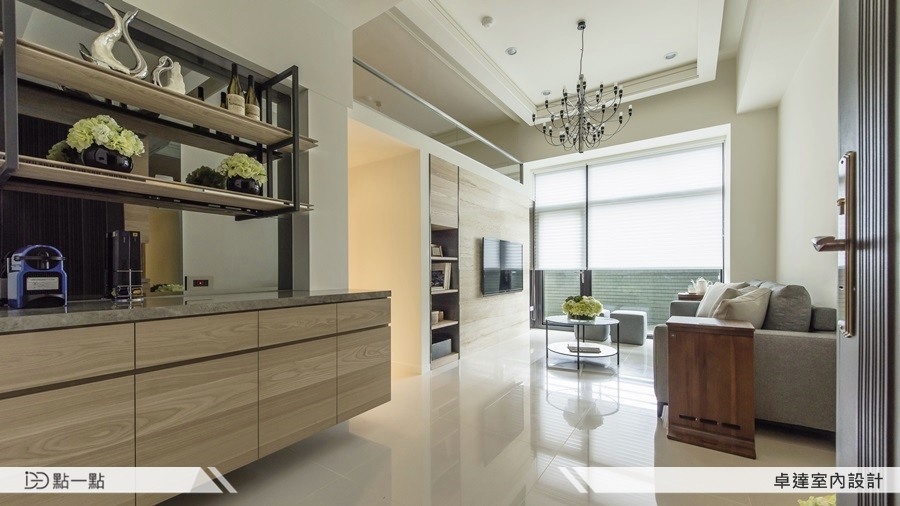sofa: (653, 282, 850, 442)
table: (542, 311, 620, 377)
tv: (479, 235, 523, 298)
